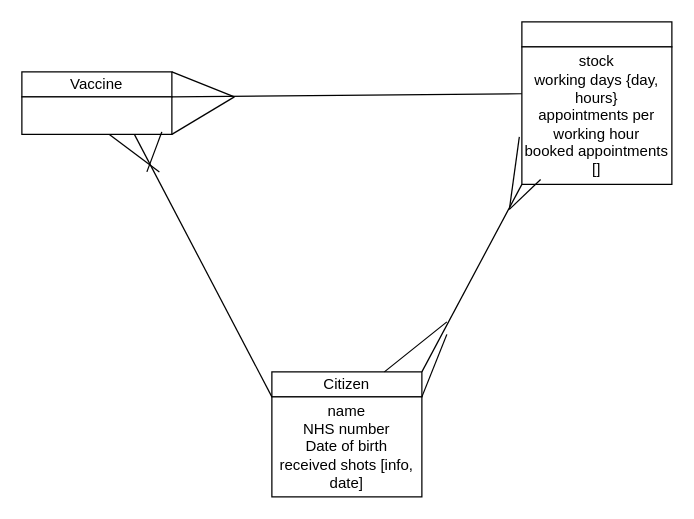
Image size: 694x519. Some labels were removed from this diagram. Here are the shapes that lost their labels. From the top down, the centre of each, then its label:
the point at 596,34: Vaccine centre
the point at 96,115: brand batch number
